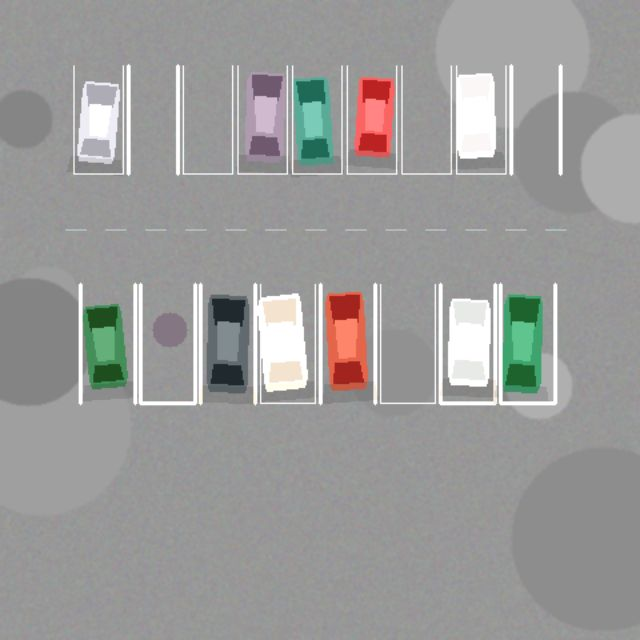space-empty: (140, 284, 195, 403), (380, 284, 435, 403), (401, 65, 451, 173), (128, 65, 177, 173), (183, 65, 232, 173), (511, 65, 560, 173)
space-occupied: (80, 284, 135, 403), (200, 284, 255, 403), (260, 284, 315, 403), (320, 284, 375, 403), (440, 284, 495, 403), (500, 284, 555, 403), (73, 65, 123, 173), (237, 65, 287, 173), (292, 65, 341, 173), (347, 65, 396, 173), (456, 65, 505, 173)
